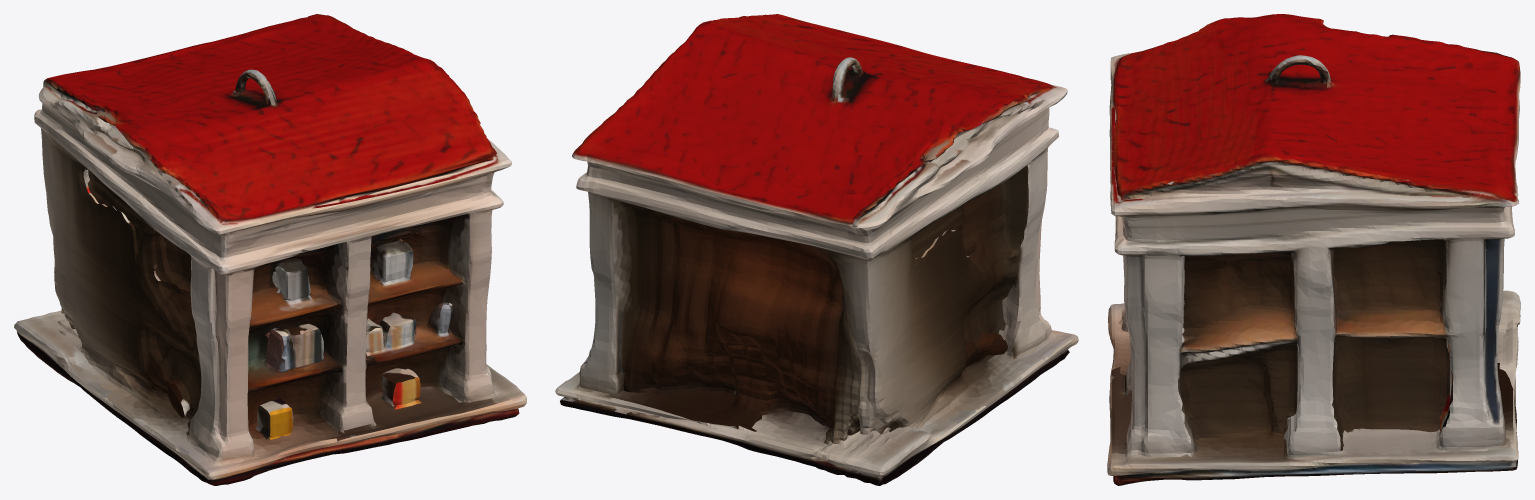
File: library1.glb
The picture shows the model from 3 angles, left to right: view 1: azimuth 30°, elevation 25°; view 2: azimuth 150°, elevation 25°; view 3: azimuth 270°, elevation 25°; orthographic projection. The views are drawn at different scales.
Parts seen in each view (by area): view 1: tmp2_v0by3j.ply; view 2: tmp2_v0by3j.ply; view 3: tmp2_v0by3j.ply.
Part boxes in pixels (x1,y1,x2,y2): tmp2_v0by3j.ply: (14,14,526,485); tmp2_v0by3j.ply: (555,14,1078,485); tmp2_v0by3j.ply: (1107,14,1520,485).
Size of the model in its own units: 1.87 by 1.78 by 1.95.
1 material, 1 textured.
